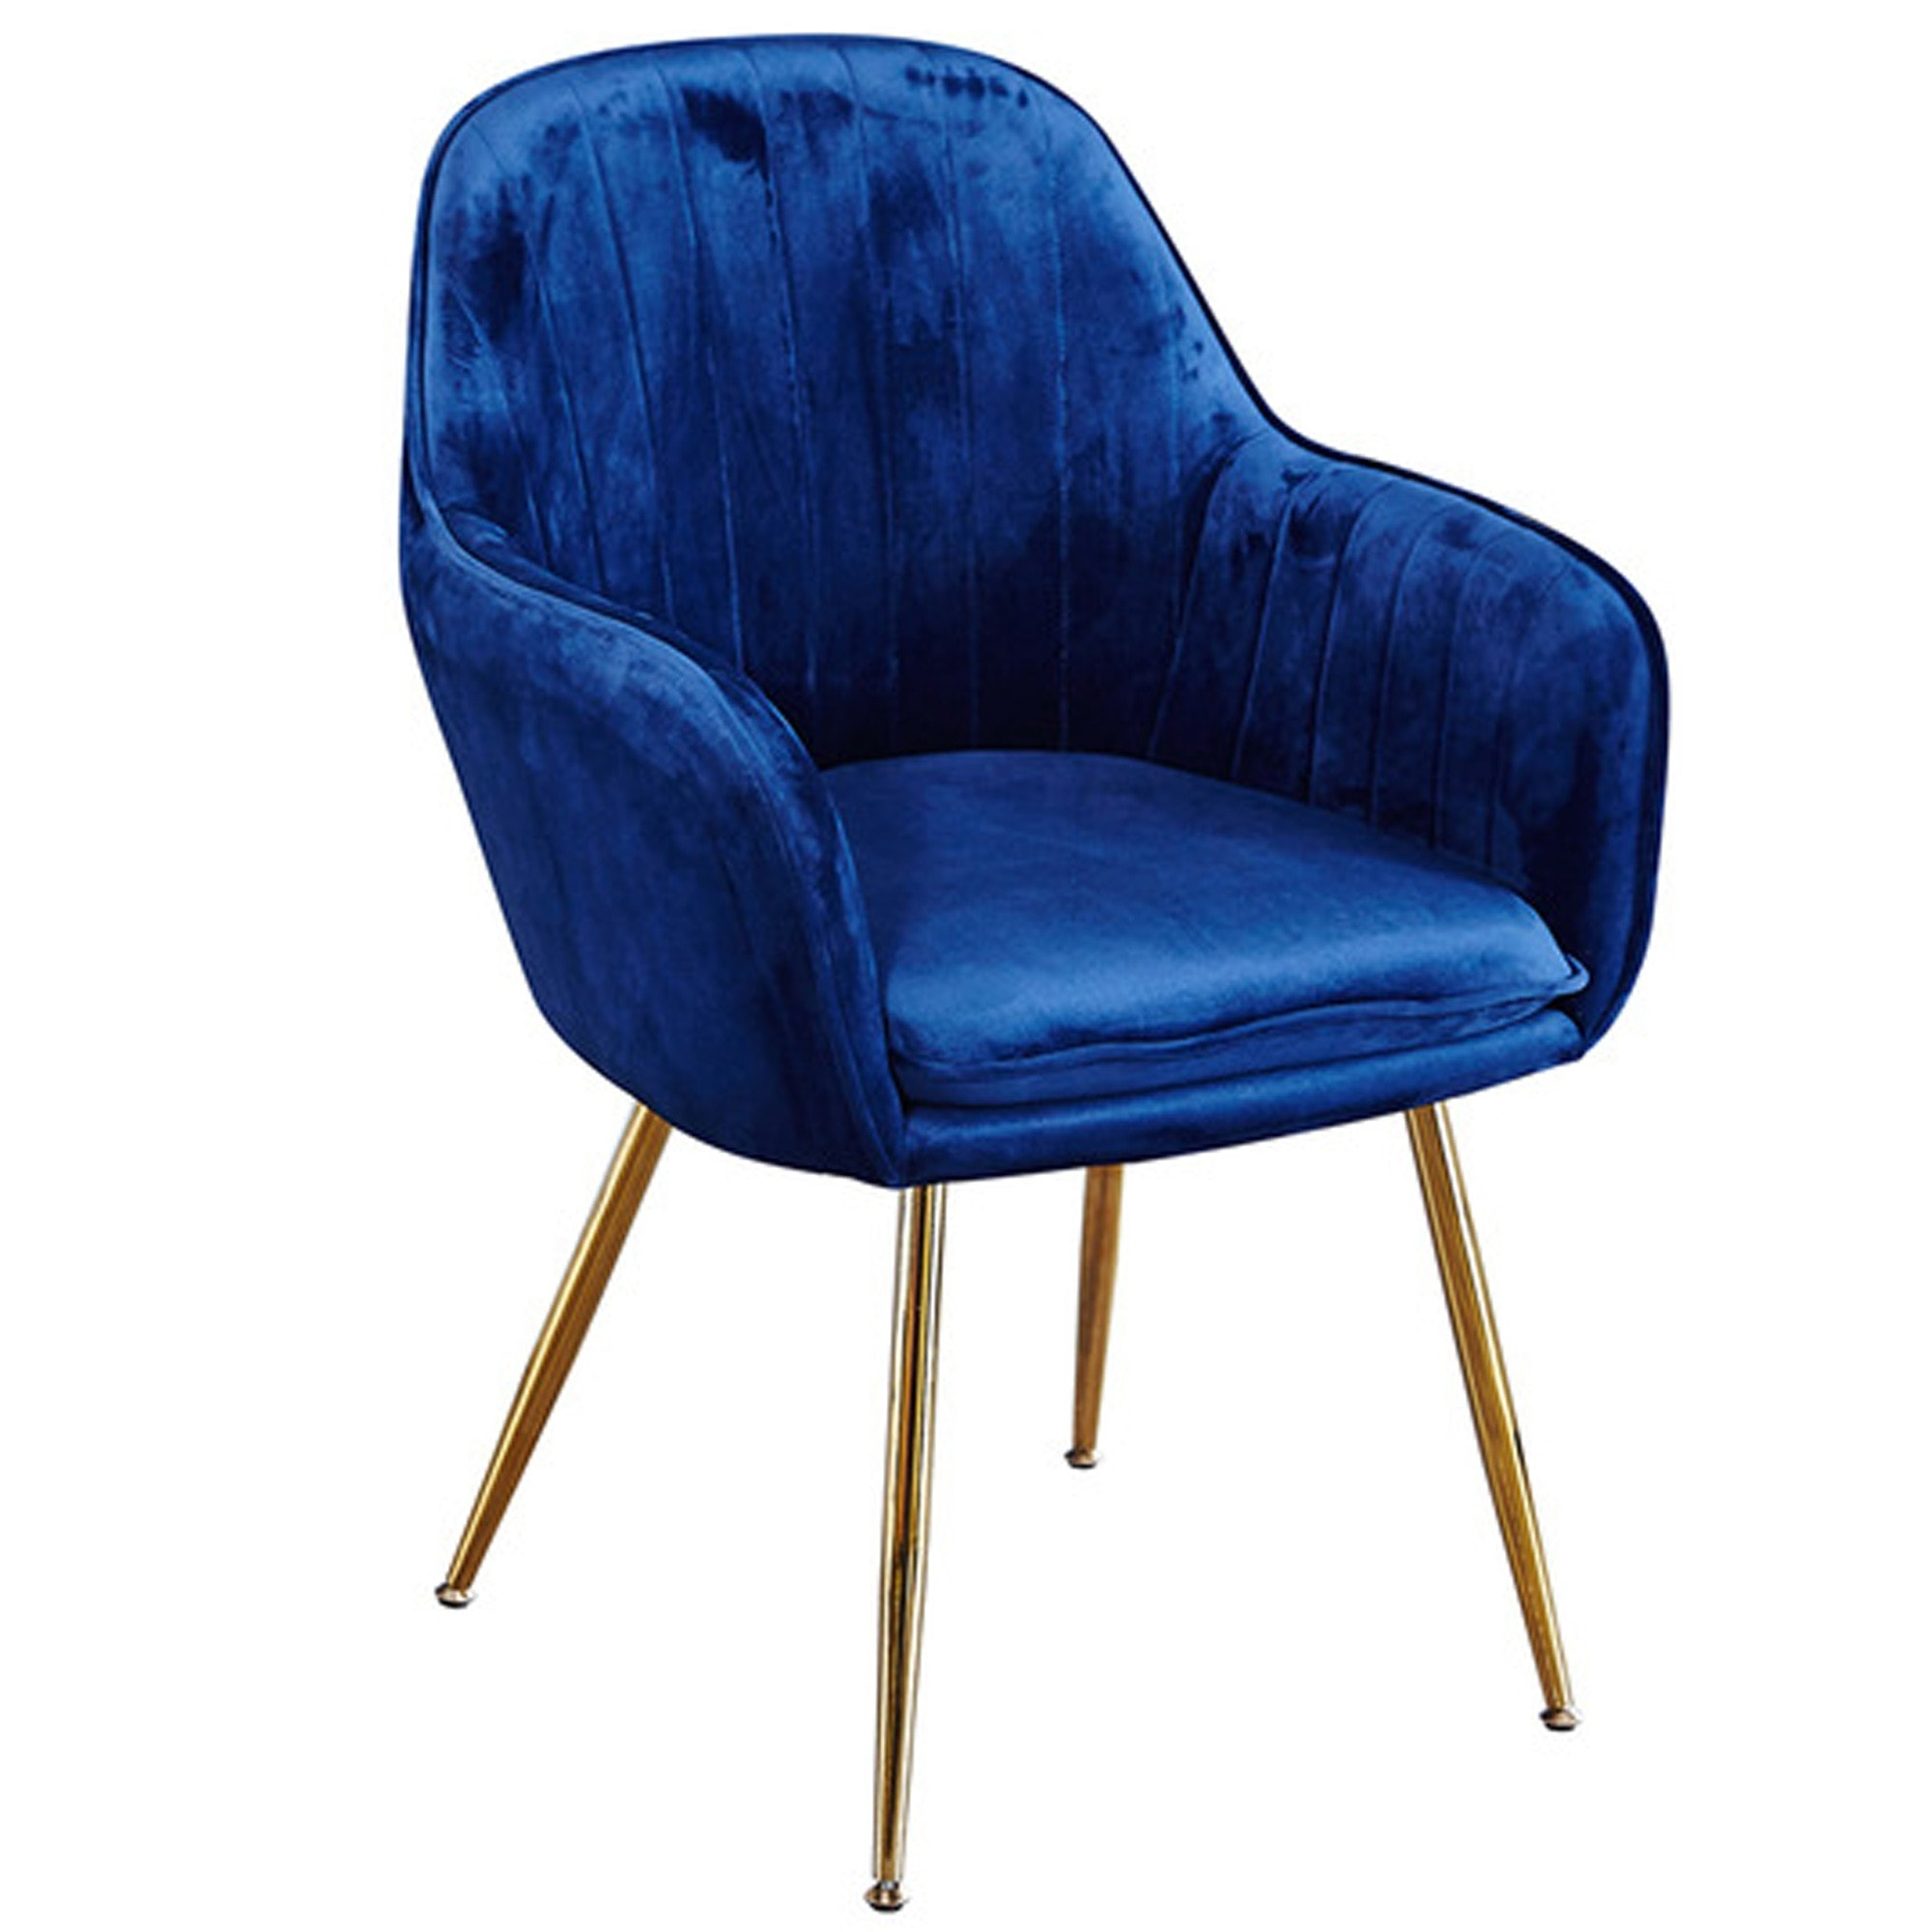kursi: (349, 51, 1619, 1842)
